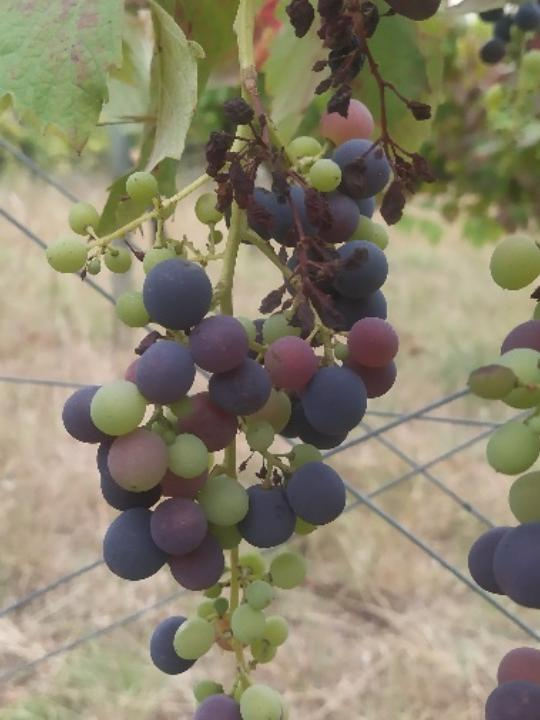grape: (48, 92, 400, 720), (283, 0, 477, 229), (468, 169, 540, 720)
